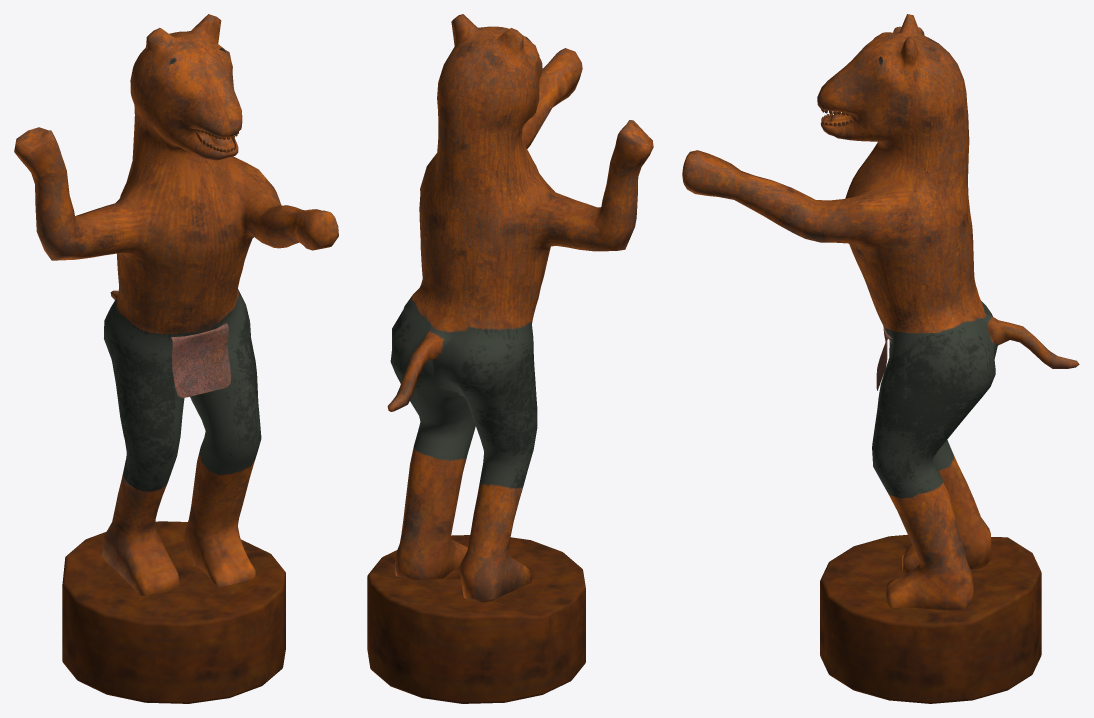
File: Homme_lion.fbx
3 views of the same model, side by side, from view 1: azimuth 30°, elevation 25°; view 2: azimuth 150°, elevation 25°; view 3: azimuth 270°, elevation 25° (orthographic). The views are drawn at different scales.
Parts seen in each view (by area): view 1: HommeLion_low, Cylinder.001, Plane; view 2: HommeLion_low, Cylinder.001; view 3: HommeLion_low, Cylinder.001.
Part boxes in pixels (x1,y1,x2,y2): HommeLion_low: [14, 14, 338, 596]; Cylinder.001: [62, 521, 285, 703]; Plane: [171, 323, 231, 397]; HommeLion_low: [387, 14, 653, 602]; Cylinder.001: [367, 535, 585, 703]; HommeLion_low: [682, 14, 1079, 610]; Cylinder.001: [820, 534, 1041, 703].
Bounding box in the file's own units: 203 × 470 × 267.
Materials: 1 (1 with a texture image).
